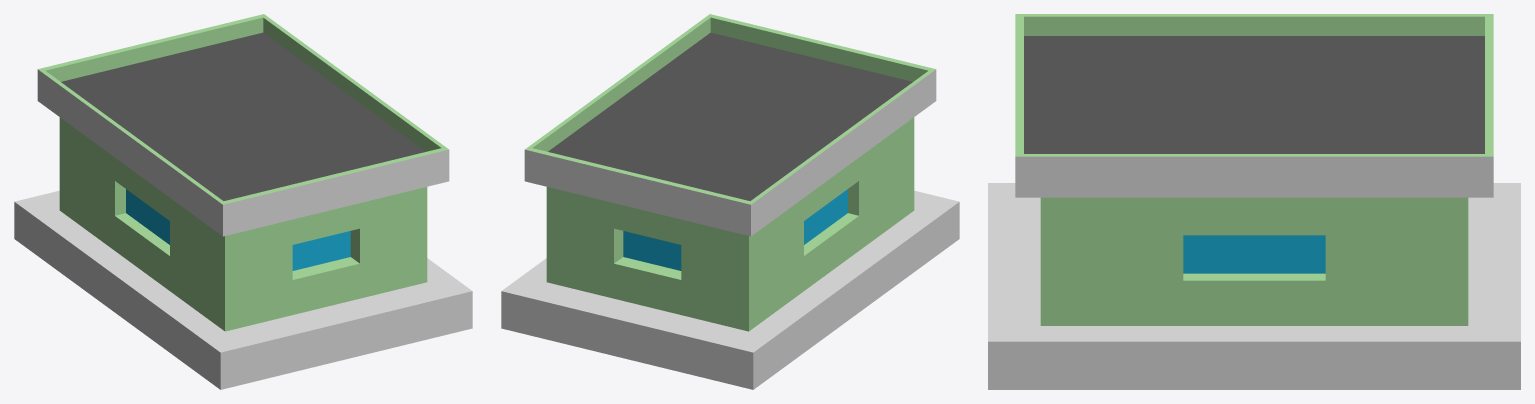
3 views of the same model, side by side, from view 1: azimuth 30°, elevation 25°; view 2: azimuth 150°, elevation 25°; view 3: azimuth 270°, elevation 25° (orthographic). The views are drawn at different scales.
Visible parts, largest first — view 1: Cube.005; view 2: Cube.005; view 3: Cube.005.
Boxes of the visible parts, left/top/right/bottom form: Cube.005: left=14, top=14, right=472, bottom=389; Cube.005: left=501, top=14, right=959, bottom=389; Cube.005: left=988, top=14, right=1520, bottom=389.
Size of the model in its own units: 144 by 95.19 by 204.
